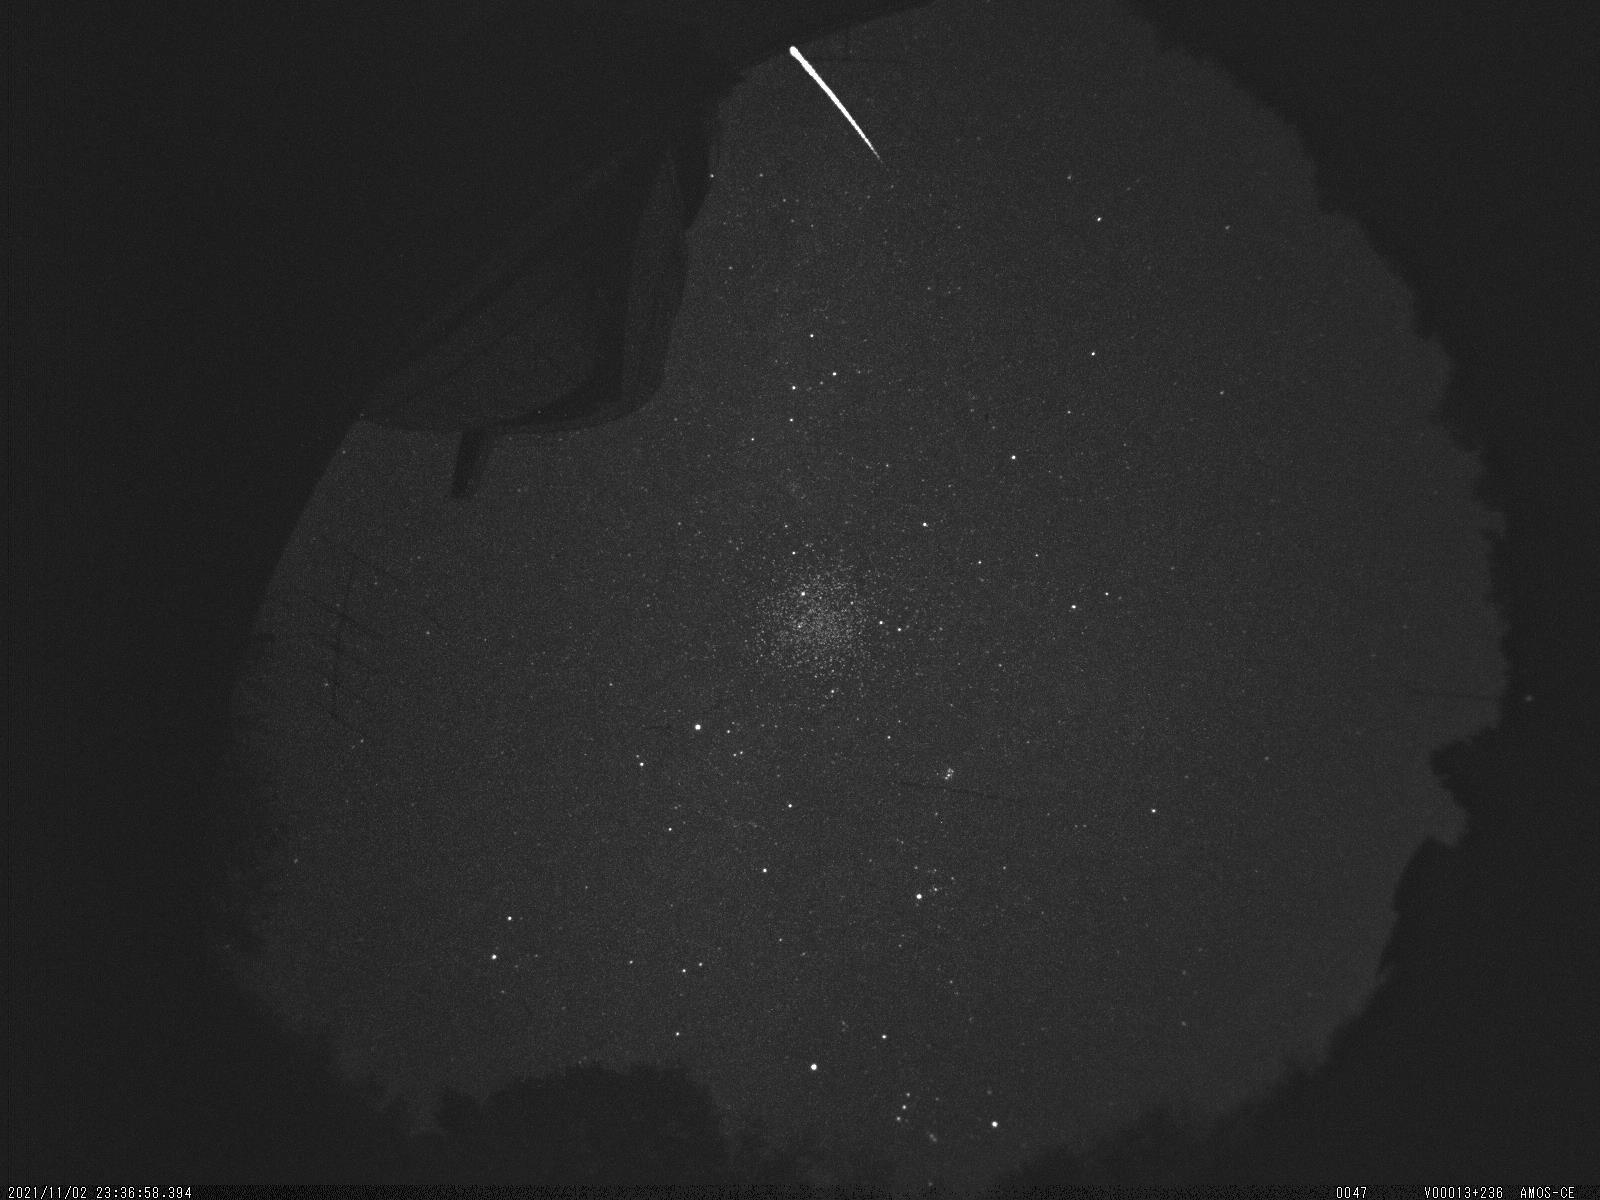Meteor: (779, 38, 886, 179)
